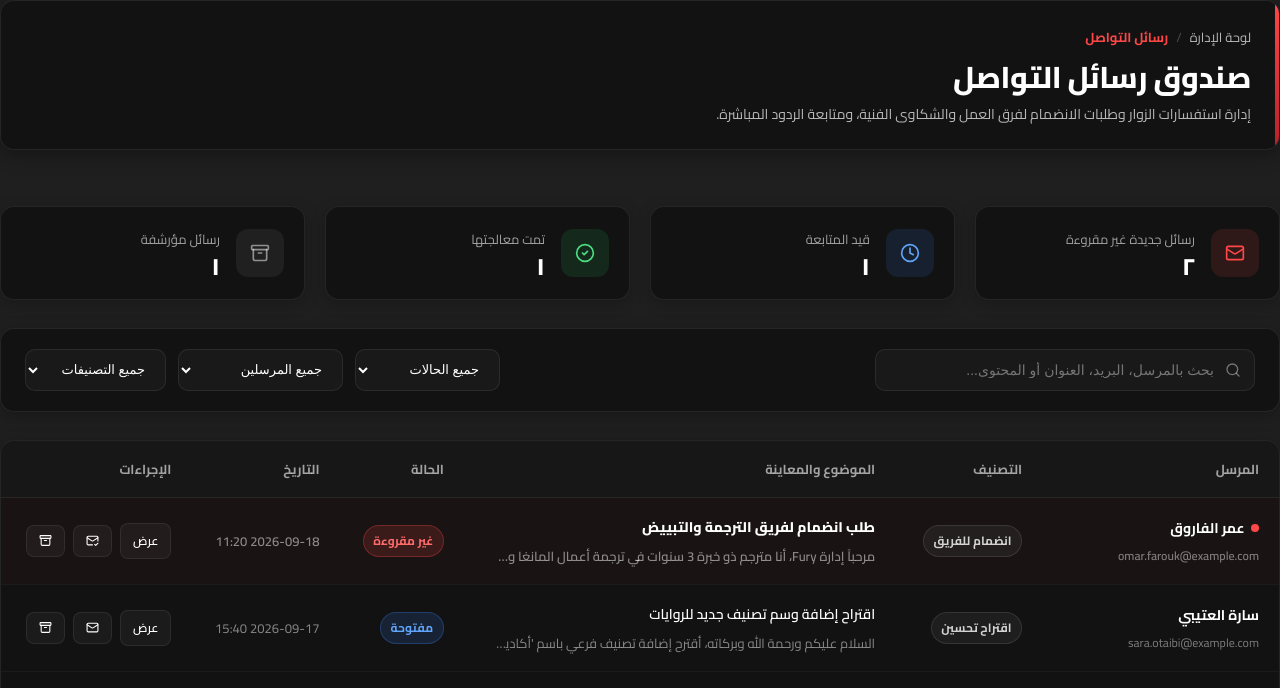
AdminContact Component › filters messages by search query matching sender or subject
Type "وسم تصنيف" into the field named "بحث في رسائل التواصل" at (1065, 370), box [875,349,1255,391]
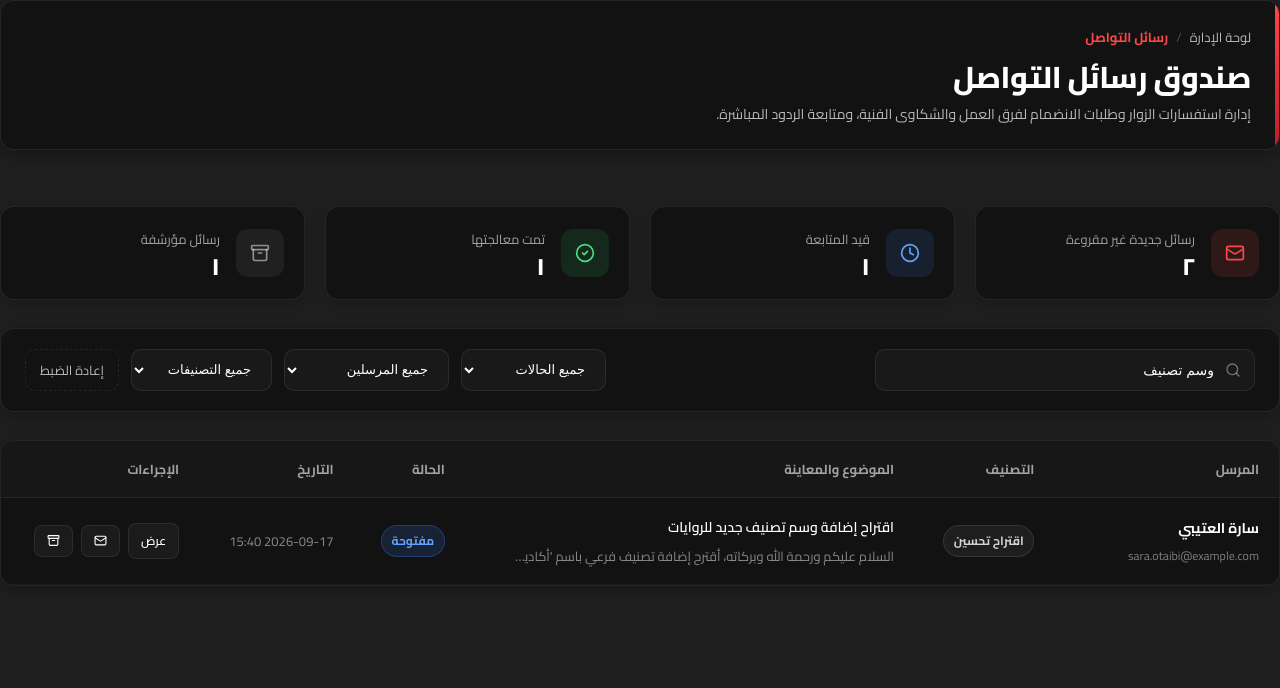
Check: the link "اقتراح إضافة وسم تصنيف جديد للروايات" is shown, box [668,514,894,540]
Check: the link "طلب انضمام لفريق الترجمة والتبييض" is gone
